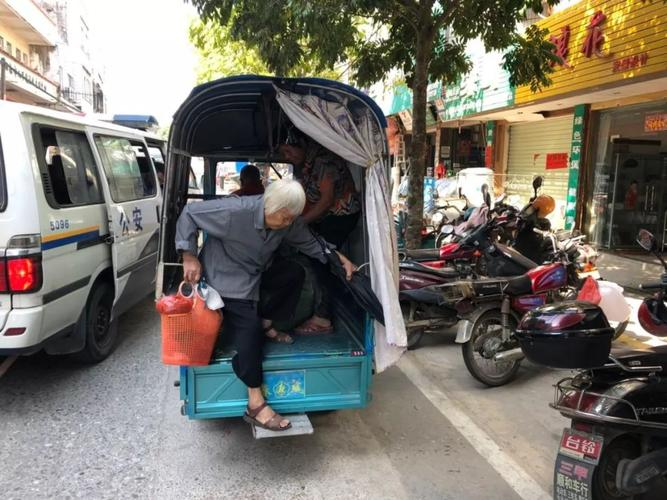driver: (232, 162, 265, 196)
overloading: (151, 71, 388, 437)
passenger: (194, 188, 317, 433), (278, 134, 348, 250)
